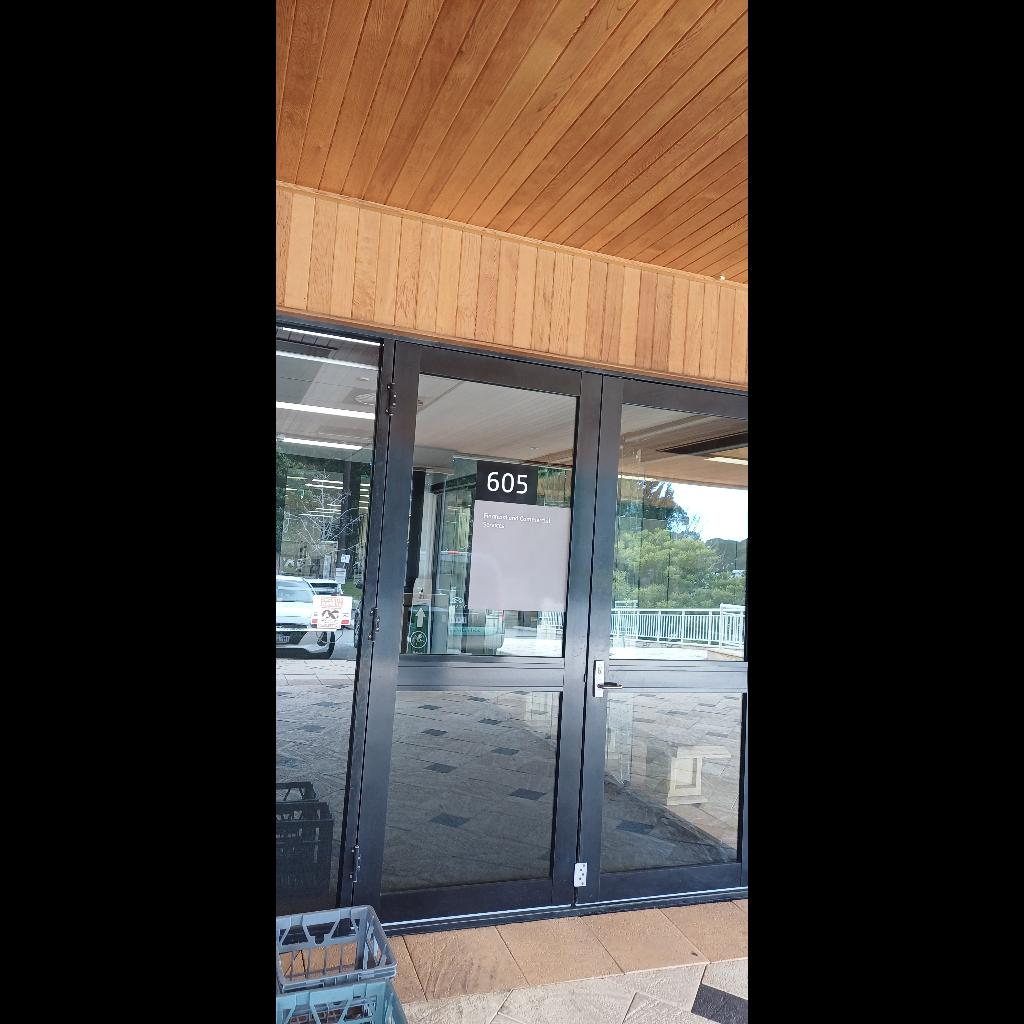BuildingCodes: (486, 469, 528, 497)
